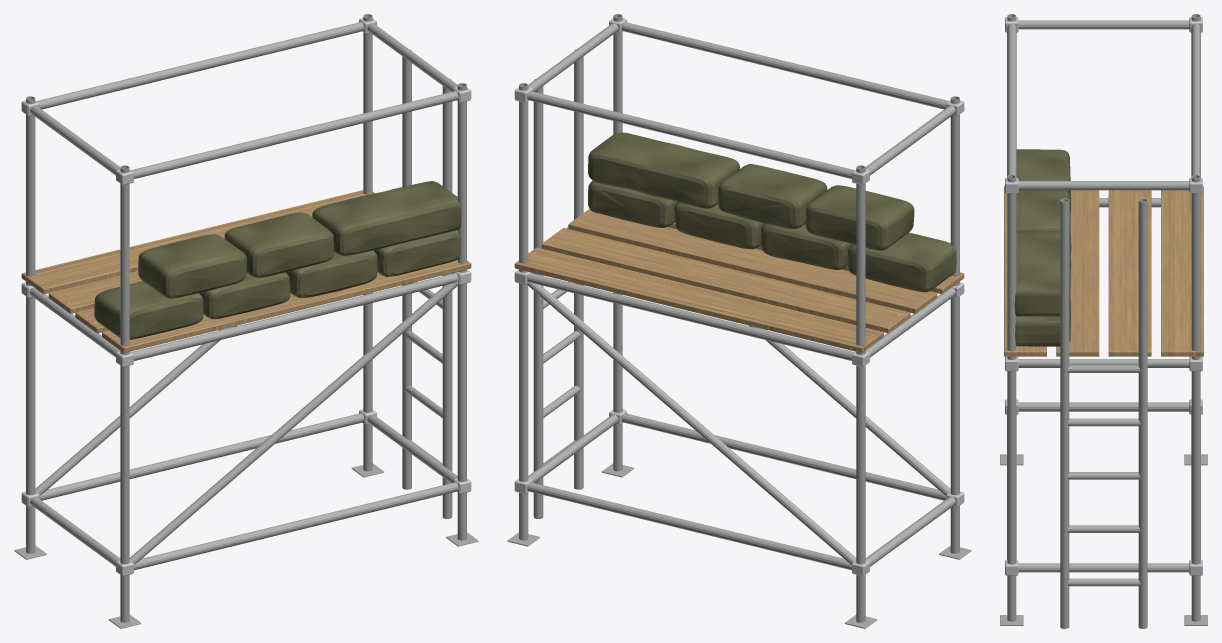
Rendered from plataforma_tiro.glb.
The picture shows the model from 3 angles, left to right: view 1: azimuth 30°, elevation 25°; view 2: azimuth 150°, elevation 25°; view 3: azimuth 270°, elevation 25°; orthographic projection. The views are drawn at different scales.
Parts seen in each view (by area): view 1: plataforma_tiro_andaime, plataforma_tiro_lona, plataforma_tiro_madeira_crua, plataforma_tiro_aco; view 2: plataforma_tiro_andaime, plataforma_tiro_lona, plataforma_tiro_madeira_crua, plataforma_tiro_aco; view 3: plataforma_tiro_andaime, plataforma_tiro_madeira_crua, plataforma_tiro_lona, plataforma_tiro_aco.
Boxes of the visible parts, box(x1,y1,x2,y2) form: plataforma_tiro_andaime: box(14, 14, 478, 628); plataforma_tiro_lona: box(94, 181, 461, 339); plataforma_tiro_madeira_crua: box(21, 190, 471, 352); plataforma_tiro_aco: box(21, 18, 471, 576); plataforma_tiro_andaime: box(507, 14, 971, 628); plataforma_tiro_lona: box(588, 132, 956, 292); plataforma_tiro_madeira_crua: box(514, 208, 964, 352); plataforma_tiro_aco: box(514, 18, 964, 576); plataforma_tiro_andaime: box(1000, 14, 1207, 628); plataforma_tiro_madeira_crua: box(1004, 186, 1203, 356); plataforma_tiro_lona: box(1014, 149, 1071, 346); plataforma_tiro_aco: box(1005, 17, 1202, 575).
Size of the model in its own units: 2.09 by 2.5 by 1.06.
Materials: 4 (2 with a texture image).
